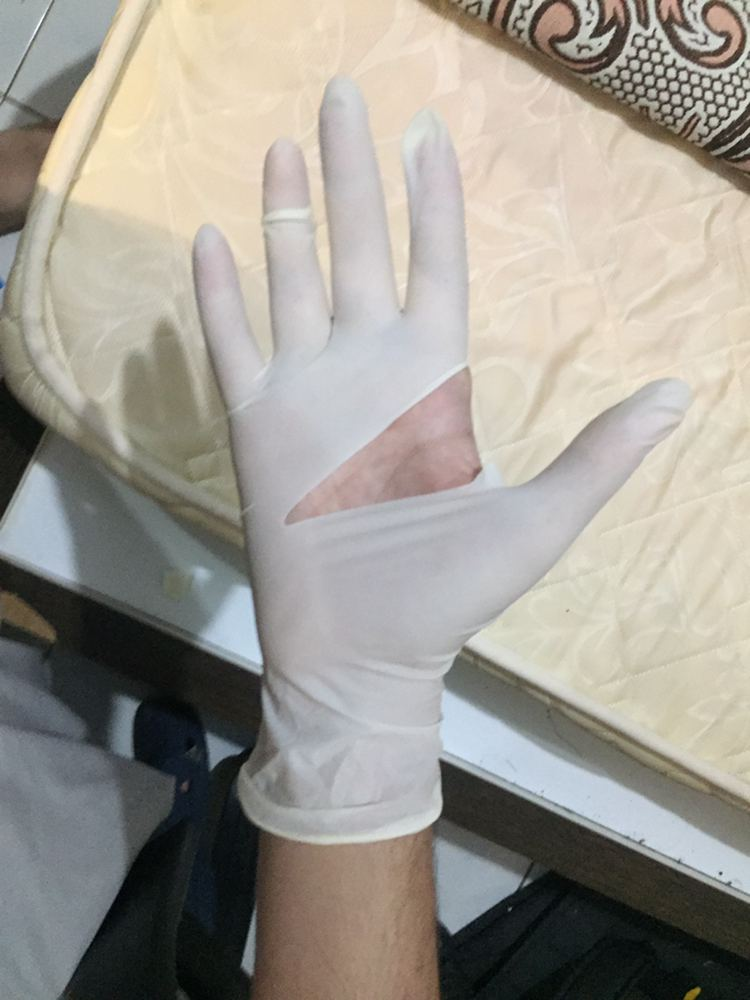defected: (103, 62, 700, 769)
